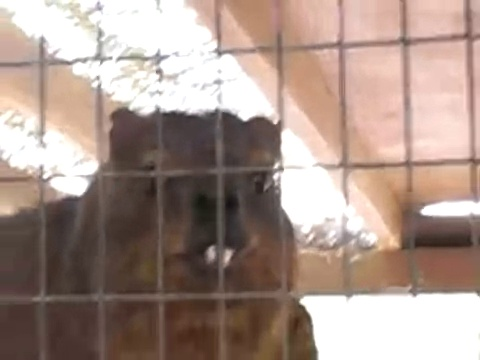Rock Hyrex: (1, 105, 319, 360)
